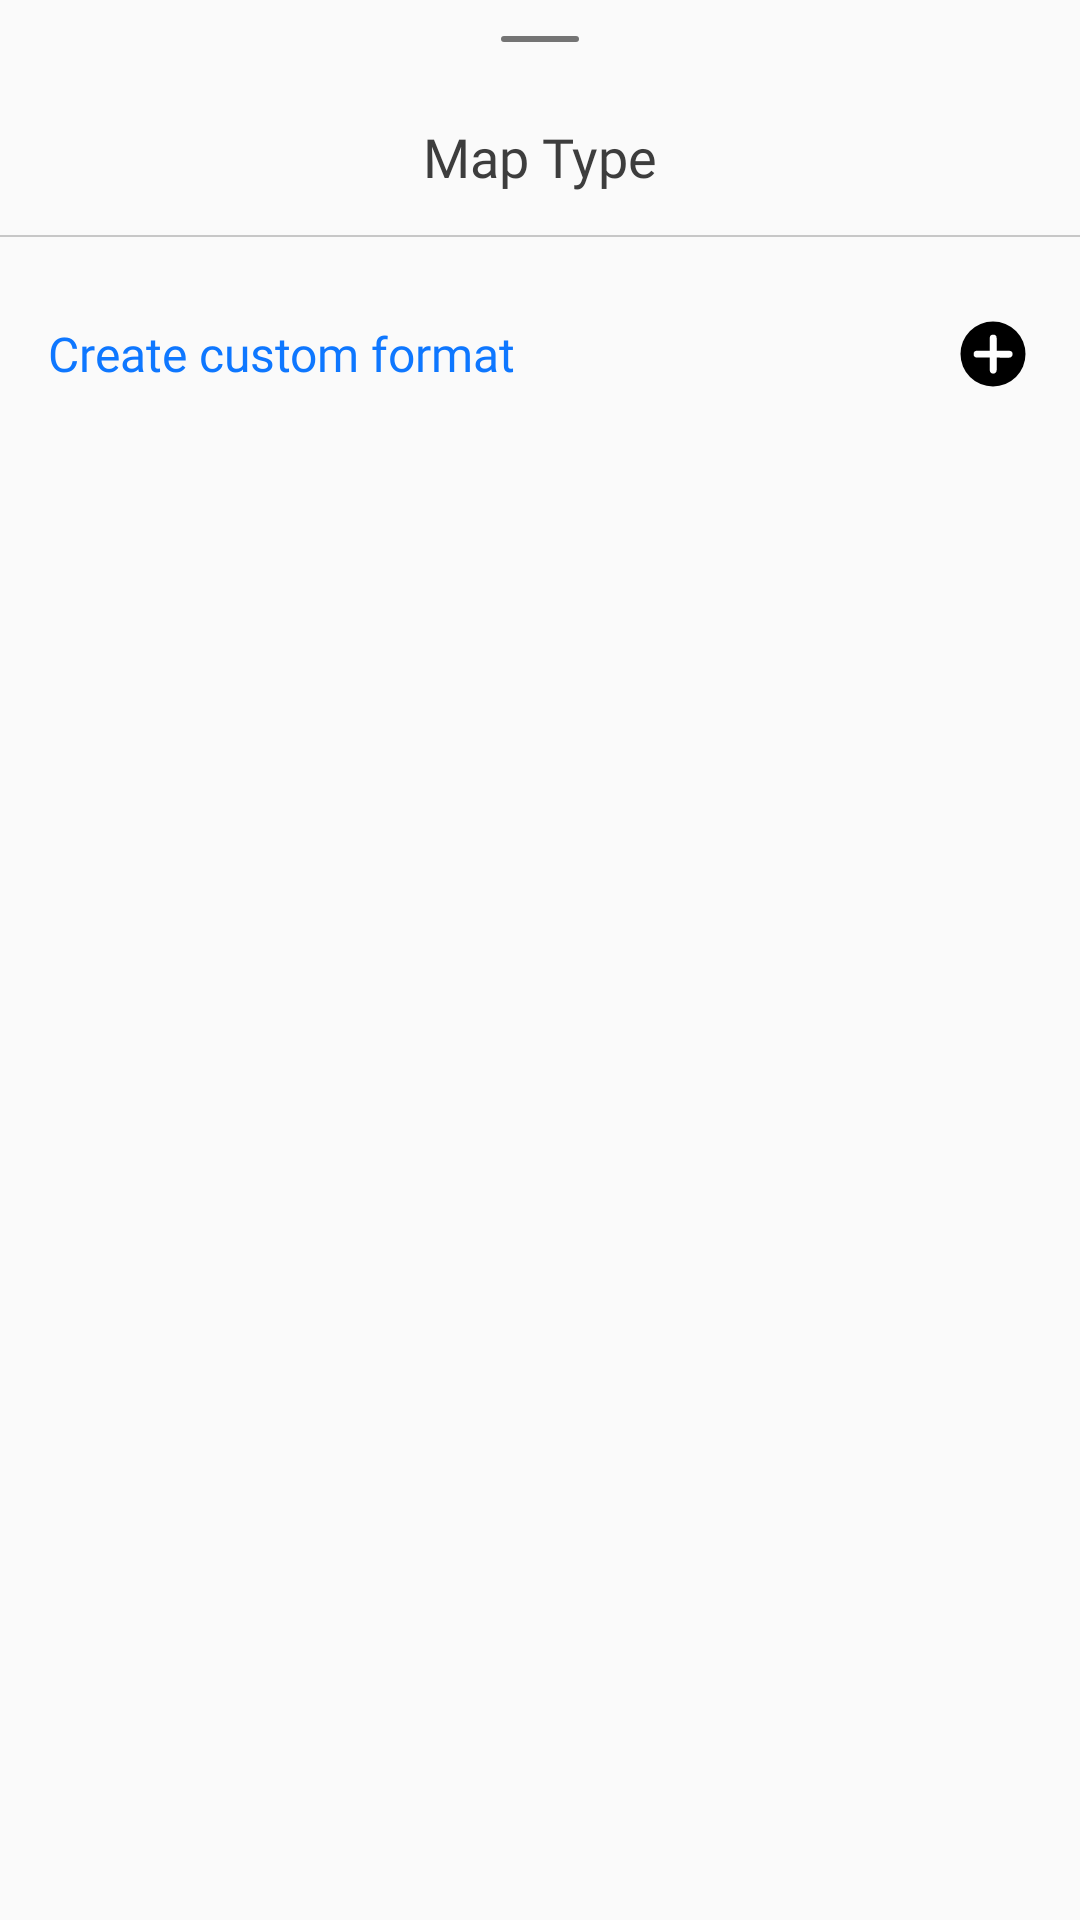

Named icons in this screenshot (1080*1920) and their bounding boxes, BBox(x1, y1, x2, y2):
add: BBox(960, 321, 1026, 387)
